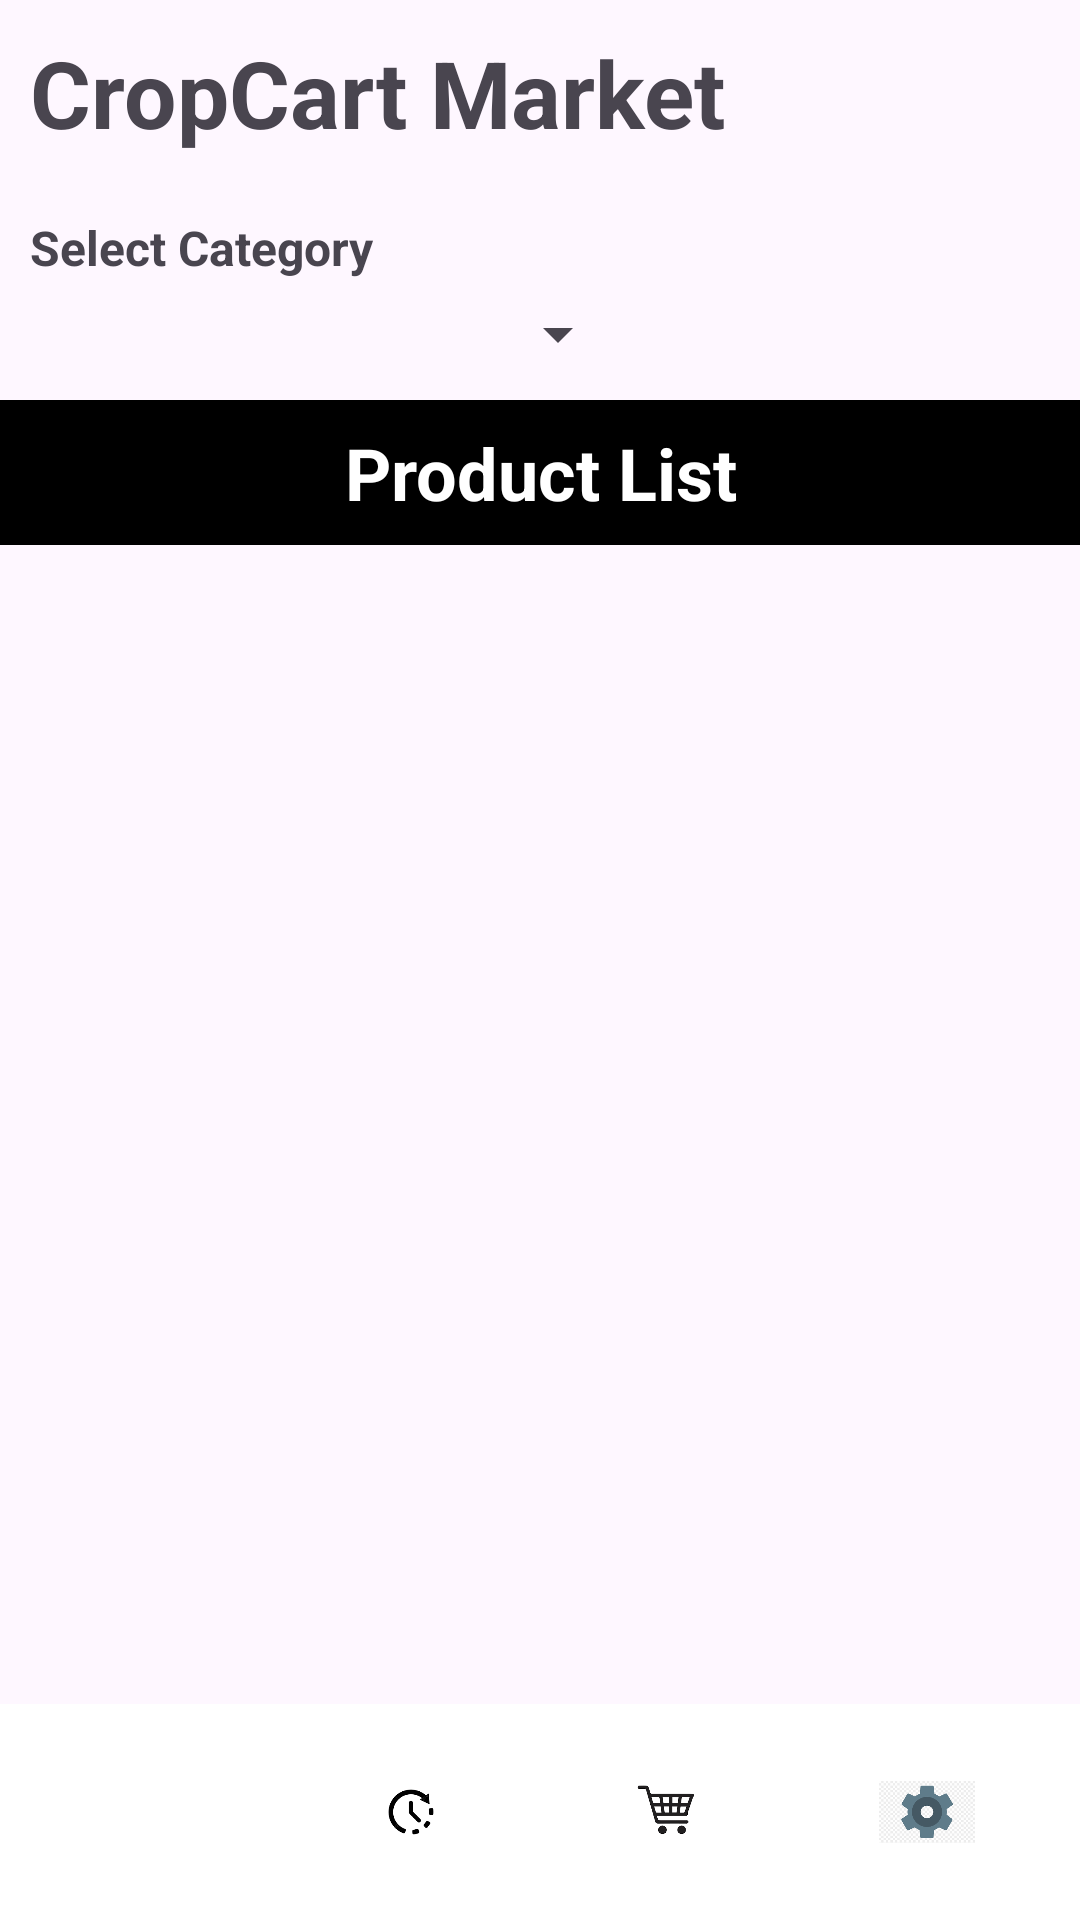

Locate icon controls on the screen. Image size 1080x1920, boxes as {"x1": x1, "y1": y1, "x2": x2, "y2": y2}.
Cart: {"x1": 637, "y1": 1785, "x2": 694, "y2": 1834}
Settings: {"x1": 901, "y1": 1785, "x2": 953, "y2": 1838}
